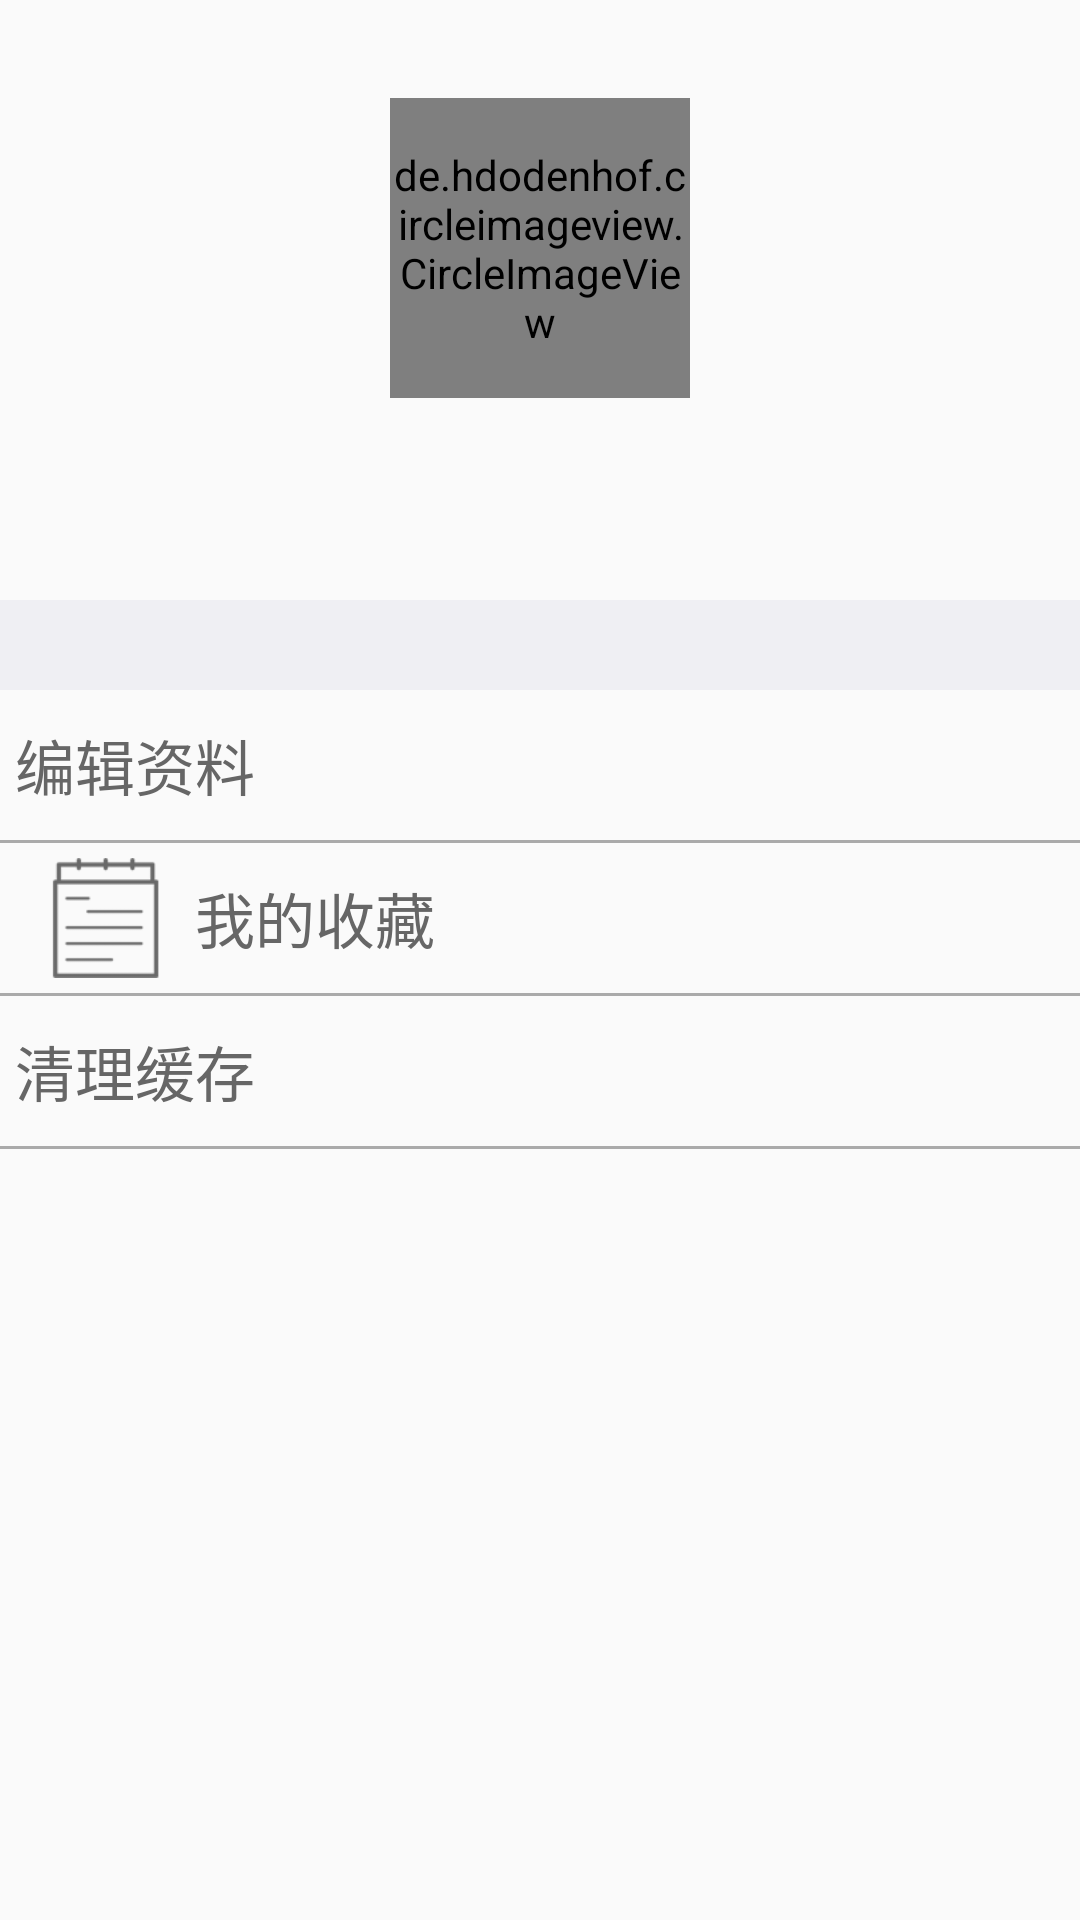

Icons on this 1080 × 1920 Android screen, each with its box as (x1, y1, x2, y2):
content: (53, 858, 159, 978)
